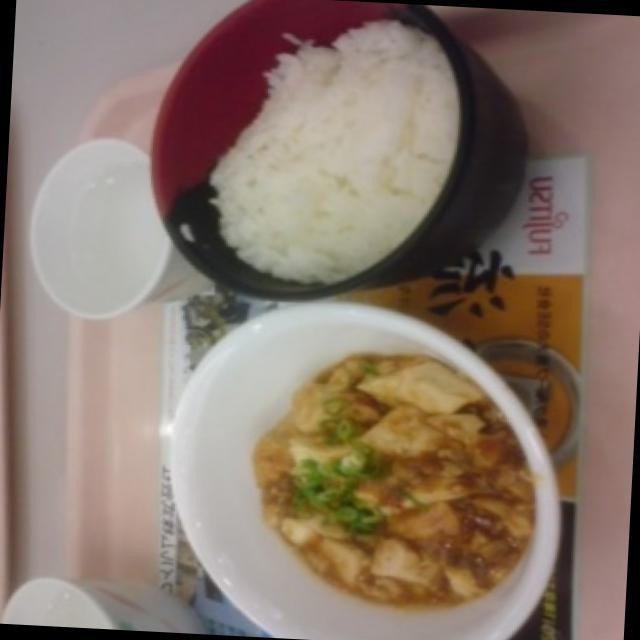Rice: (218, 7, 444, 266)
